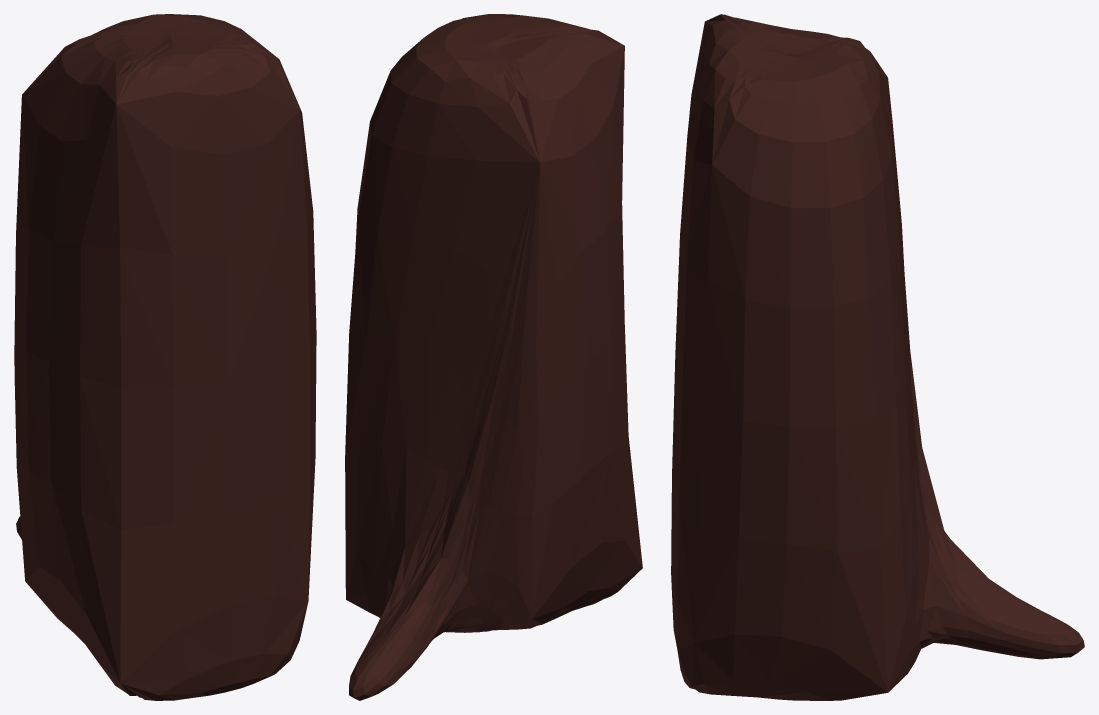
The picture shows the model from 3 angles, left to right: view 1: azimuth 30°, elevation 25°; view 2: azimuth 150°, elevation 25°; view 3: azimuth 270°, elevation 25°; orthographic projection. The views are drawn at different scales.
Parts seen in each view (by area): view 1: 036_Cube.151; view 2: 036_Cube.151; view 3: 036_Cube.151.
Part boxes in pixels (left/top/right/bottom): 036_Cube.151: left=14, top=14, right=316, bottom=700; 036_Cube.151: left=345, top=14, right=642, bottom=700; 036_Cube.151: left=671, top=14, right=1084, bottom=700.
Size of the model in its own units: 5.35 by 12.87 by 7.59.
